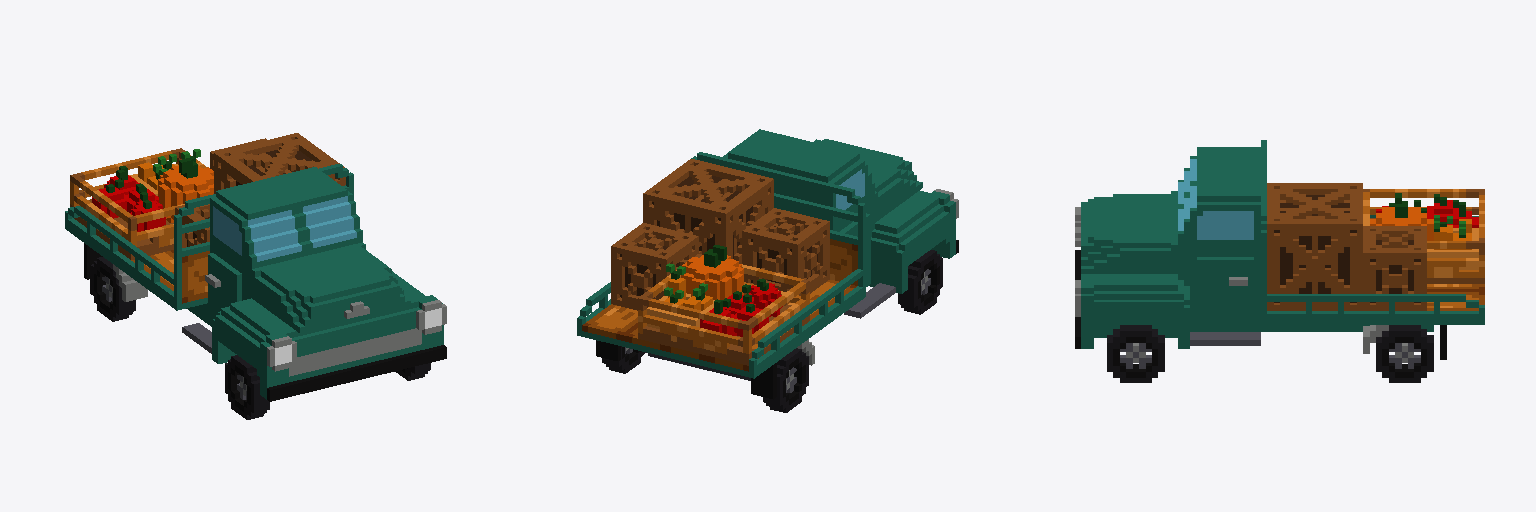
3 views of the same model, side by side, from view 1: azimuth 30°, elevation 25°; view 2: azimuth 150°, elevation 25°; view 3: azimuth 270°, elevation 25° (orthographic).
Visible parts, largest first — view 1: object 1; view 2: object 1; view 3: object 1.
Boxes of the visible parts, <box> form: object 1: <box>65,133,446,419</box>; object 1: <box>577,129,958,412</box>; object 1: <box>1075,140,1484,382</box>.
Size of the model in its own units: 3.2 by 2.9 by 6.4.
Materials: 1 (1 with a texture image).